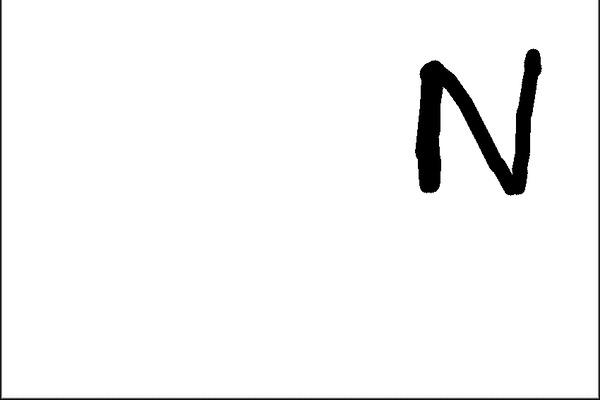N: (410, 43, 546, 199)
